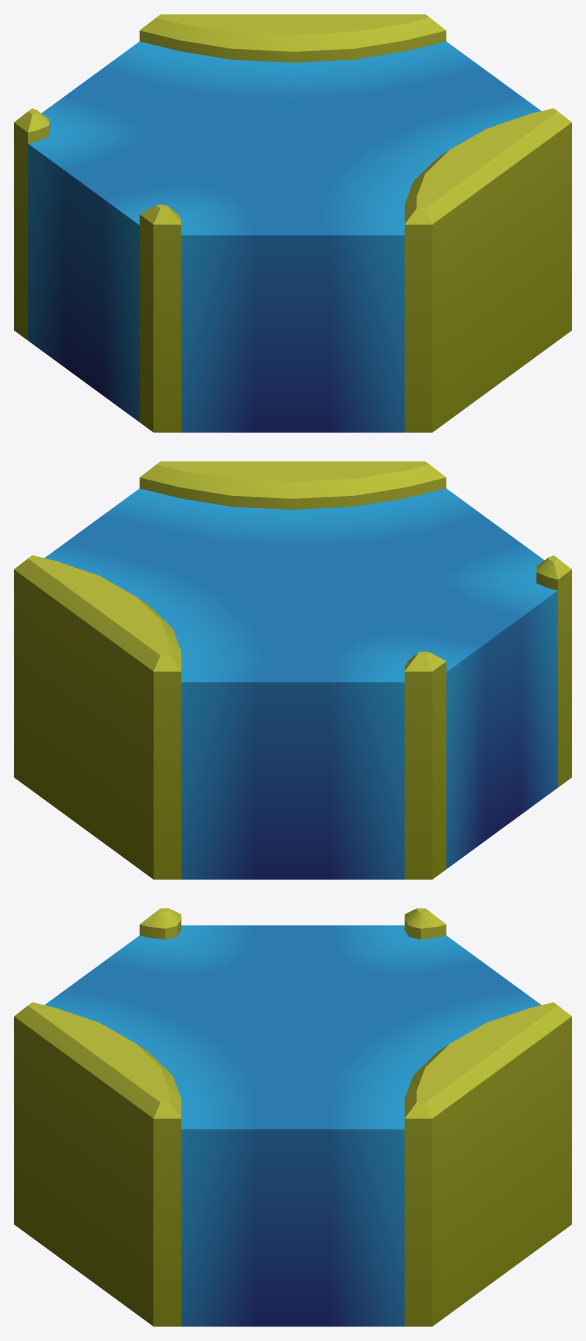
Rendered from hex_river_H.glb.
3 renders of one model, top to bottom at view 1: azimuth 30°, elevation 25°; view 2: azimuth 150°, elevation 25°; view 3: azimuth 270°, elevation 25°, orthographic.
Visible parts, largest first — view 1: hex_river_H; view 2: hex_river_H; view 3: hex_river_H.
Boxes of the visible parts, bbox=[...] form: hex_river_H: bbox=[14, 14, 571, 432]; hex_river_H: bbox=[14, 461, 571, 879]; hex_river_H: bbox=[14, 908, 571, 1326].
Bounding box in the file's own units: 2 × 1 × 2.31.
1 material, 1 textured.
